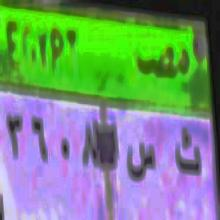0: (56, 130, 76, 174)
3: (5, 111, 25, 162)
6: (30, 108, 51, 164)
8: (81, 116, 98, 178)
seen: (127, 132, 158, 188)
thaa: (174, 124, 202, 174)
